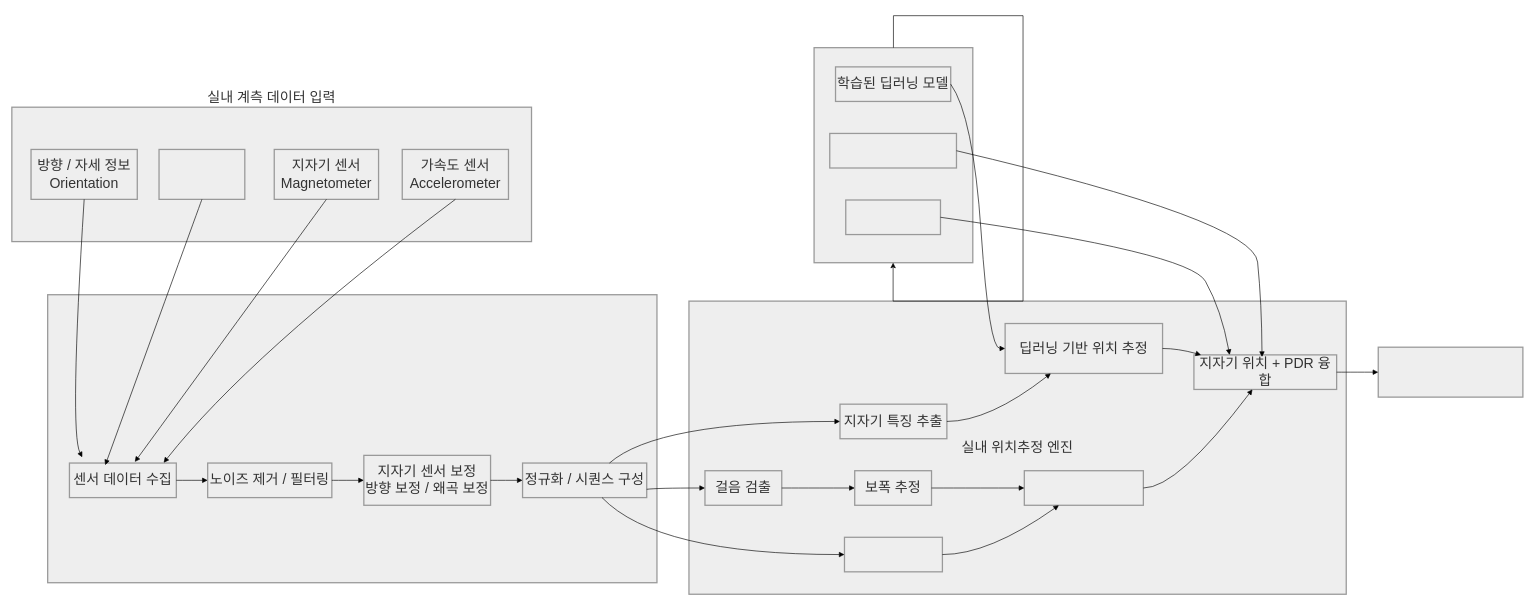
Image size: 1534x606. Some labels were removed from this diagram. Here are the shapes that lost their labels. From the top down, the box of each, then its label:
(829, 132, 957, 168): 실내 지도 / 층별 지도
(158, 148, 245, 200): 자이로 센서 Gyroscope
(845, 199, 941, 235): 이동 히스토리
(1377, 346, 1523, 397): 최종 실내 위치 출력
(47, 294, 657, 583): 전처리 및 보정
(1023, 470, 1144, 506): PDR 기반 이동 추정
(844, 536, 943, 572): 진행 방향 계산
